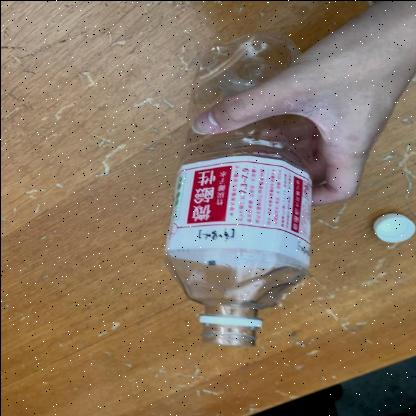Plastic Bottle: (162, 31, 312, 346)
